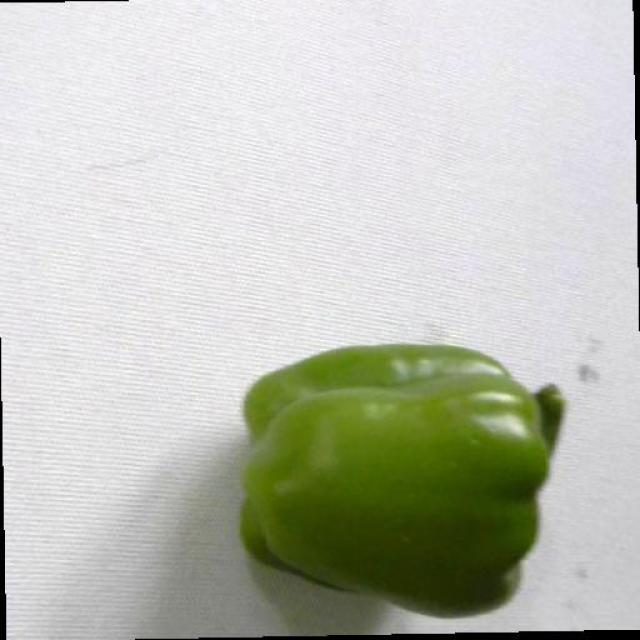Fresh_Capsicum: (177, 360, 564, 597)
